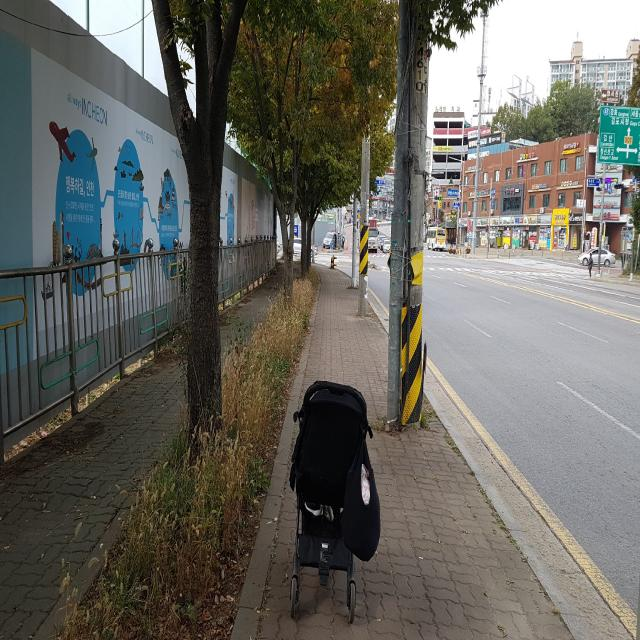횡단보도: (311, 261, 337, 267)
